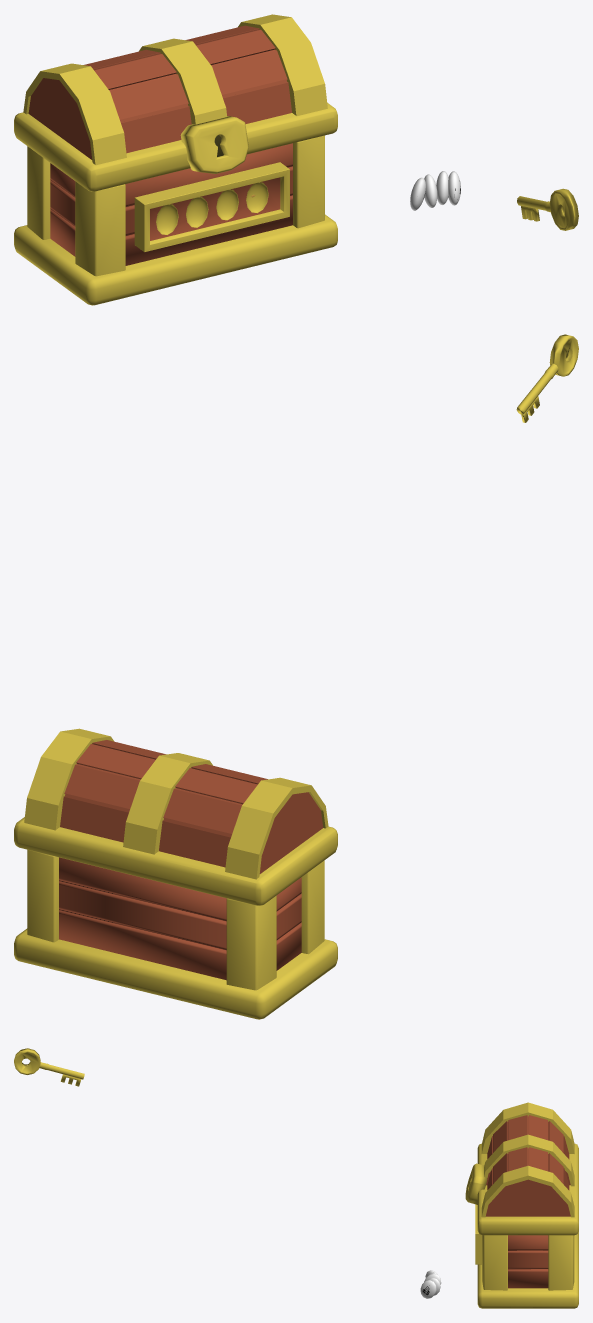
File: sunduc.glb
The picture shows the model from 3 angles, top to bottom: view 1: azimuth 30°, elevation 25°; view 2: azimuth 150°, elevation 25°; view 3: azimuth 270°, elevation 25°; orthographic projection. The views are drawn at different scales.
Parts seen in each view (by area): view 1: top, base, Cube.004, base2, Cube.005, Cylinder.001, Sphere; view 2: top, base, base2, Cylinder.001; view 3: top, base, base2, Cylinder.001.
Boxes of the visible parts, left/top/right/bottom form: top: left=14, top=14, right=337, bottom=191; base: left=14, top=135, right=337, bottom=305; Cube.004: left=144, top=169, right=289, bottom=251; base2: left=50, top=143, right=292, bottom=265; Cube.005: left=134, top=162, right=289, bottom=252; Cylinder.001: left=517, top=188, right=578, bottom=230; Sphere: left=410, top=177, right=425, bottom=210; top: left=14, top=728, right=337, bottom=905; base: left=14, top=849, right=337, bottom=1019; base2: left=59, top=857, right=301, bottom=980; Cylinder.001: left=516, top=334, right=578, bottom=422; top: left=465, top=1102, right=578, bottom=1235; base: left=477, top=1231, right=578, bottom=1308; base2: left=508, top=1235, right=548, bottom=1288; Cylinder.001: left=14, top=1048, right=84, bottom=1086.
Size of the model in its own units: 1.36 by 1.34 by 3.09.
10 materials, 4 textured.
